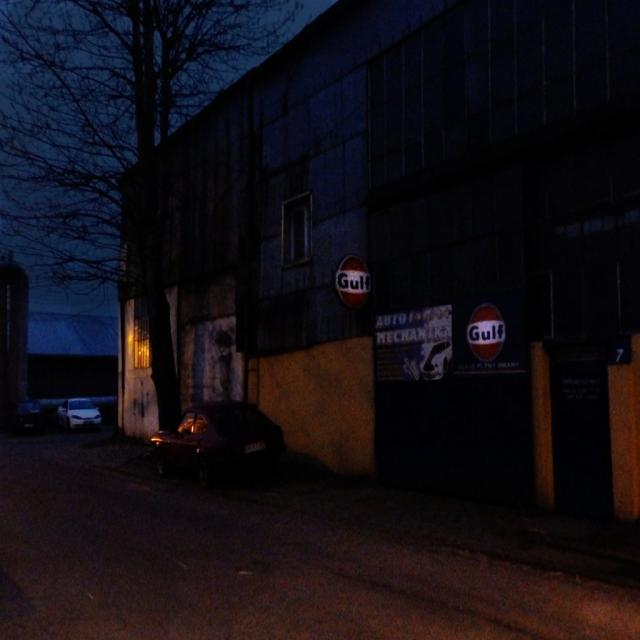Car: (150, 402, 287, 496)
